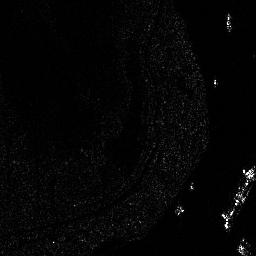ship: (223, 164, 255, 227)
